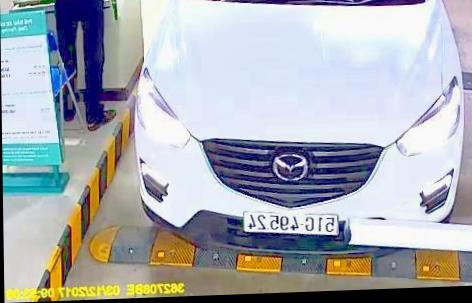License_Plate: (240, 207, 341, 238)
